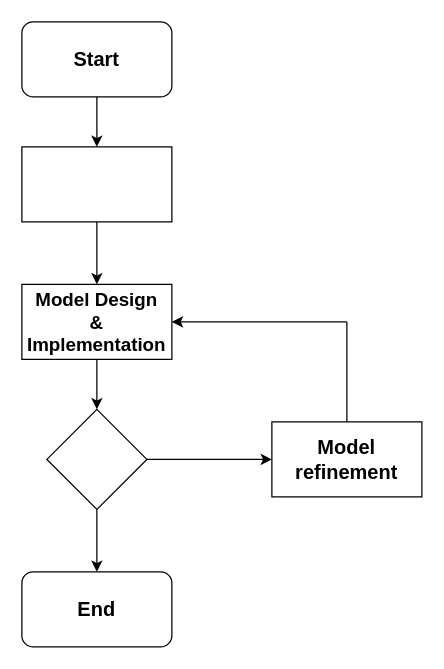
Image size: 444x669. Some labels were removed from this diagram. The shapes that lost their labels are listed below. From the top down, each one's centre as x and y in pixels, then its label:
the point at 96,184: Data Collection
the point at 96,458: Evaluation
